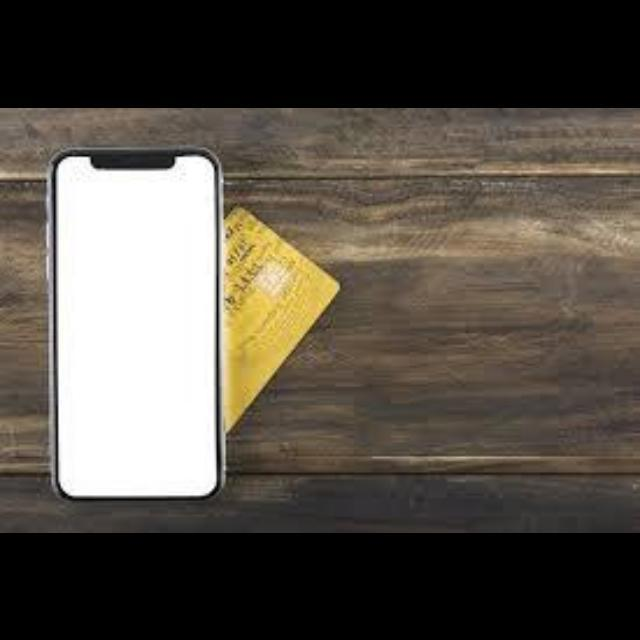phone: (54, 142, 217, 503)
